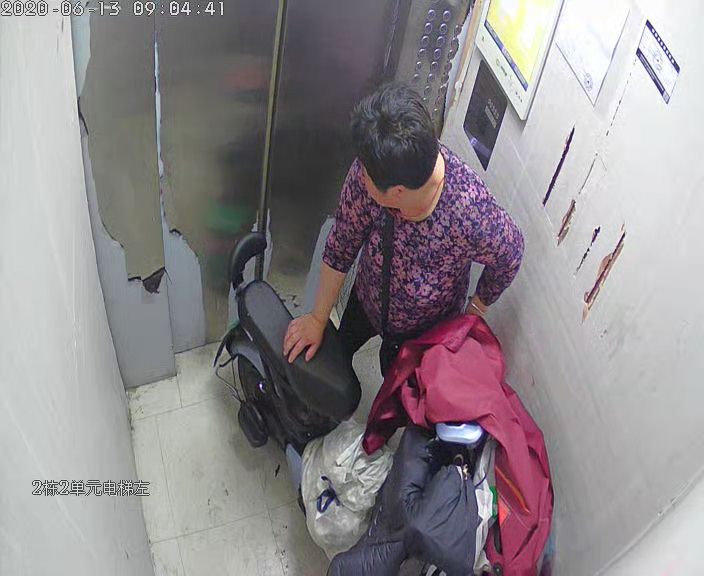Electric-bicycle: (226, 234, 547, 576)
